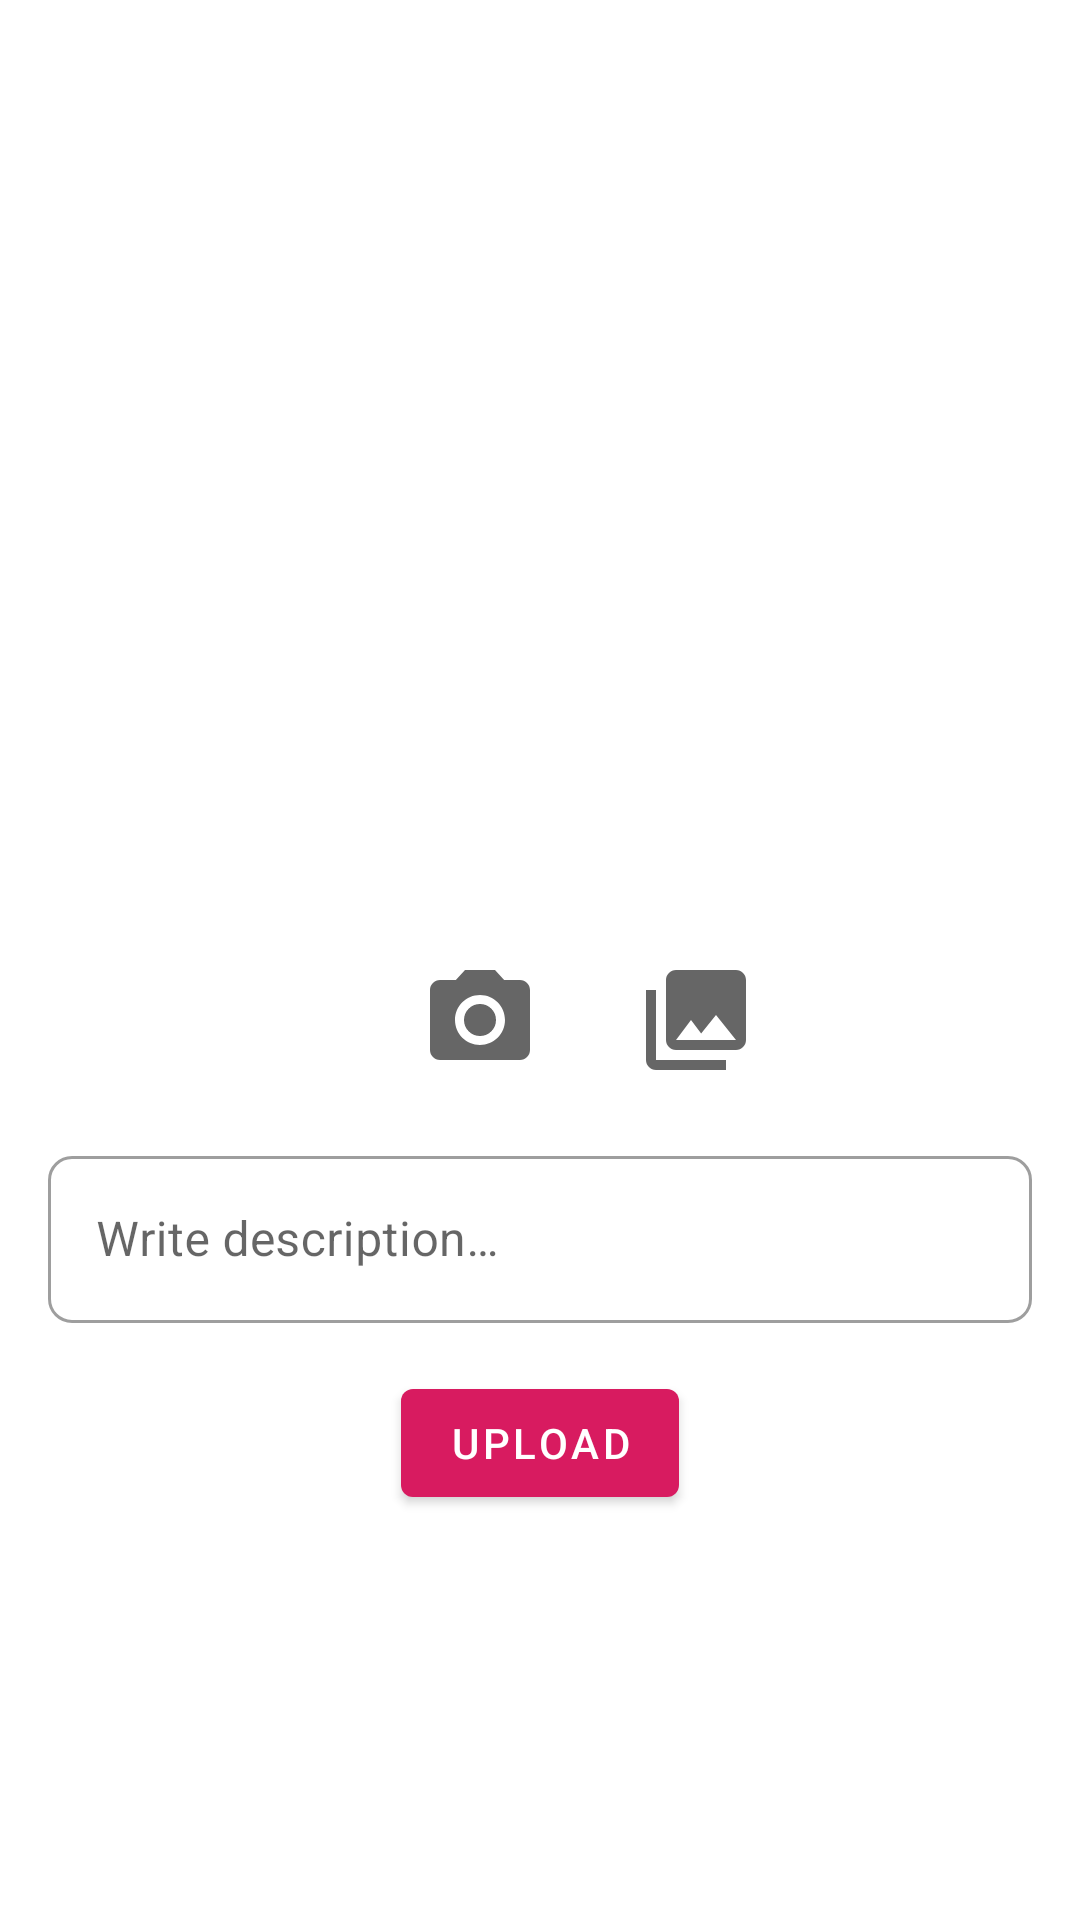

Named icons in this screenshot (1080 x 1920) and their centers, (x=x, y=y):
Choose photo: (x=696, y=1020)
Take photo: (x=480, y=1015)
